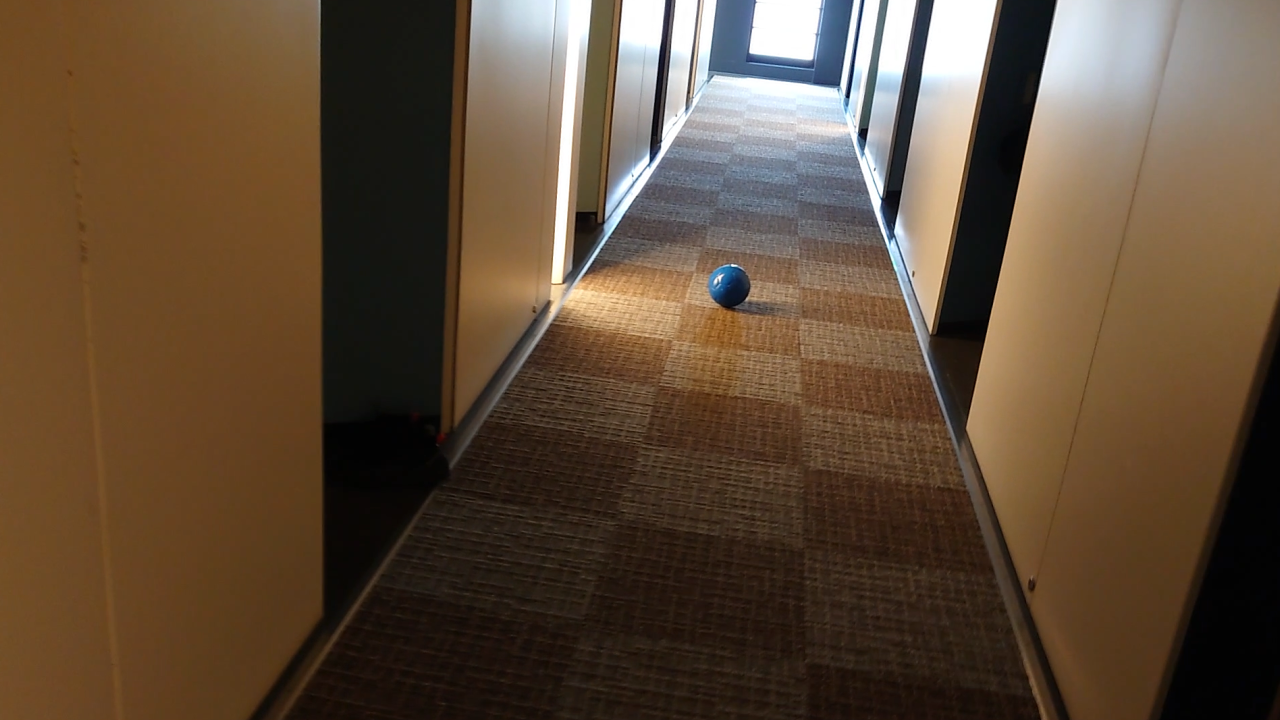blue: (706, 263, 752, 308)
